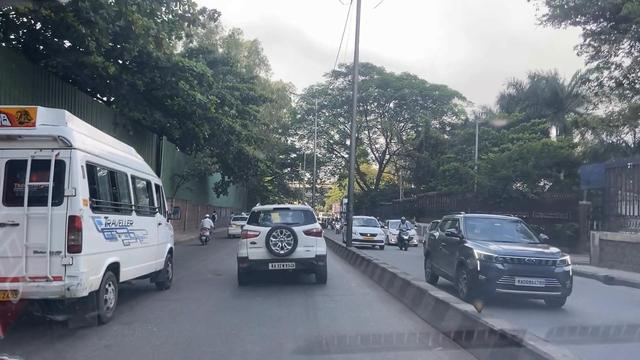HMV: (4, 105, 174, 313)
LMV: (230, 209, 333, 292)
